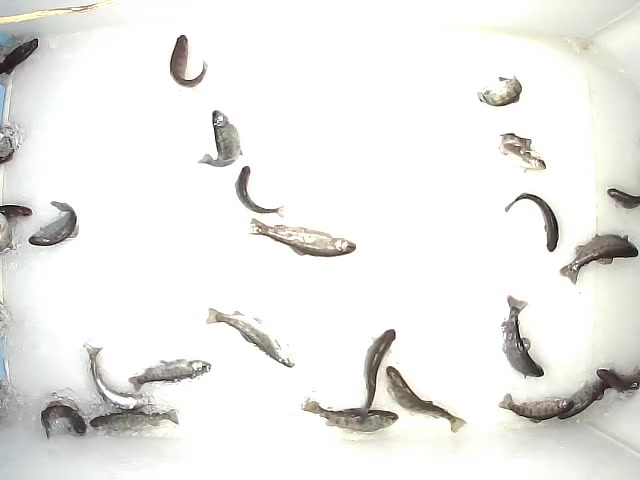fish: (385, 364, 470, 434), (205, 308, 297, 370), (81, 342, 151, 410), (247, 217, 357, 259), (559, 232, 640, 286), (498, 293, 547, 379), (357, 328, 398, 426), (300, 394, 399, 433), (557, 364, 620, 421), (504, 192, 560, 254), (127, 358, 213, 393), (196, 109, 243, 169), (234, 165, 287, 218), (26, 200, 81, 247), (497, 393, 575, 424), (89, 407, 180, 433), (168, 34, 209, 88), (498, 131, 546, 173), (40, 400, 87, 441), (476, 73, 524, 108), (1, 37, 41, 77), (596, 367, 640, 395), (605, 187, 640, 211)
